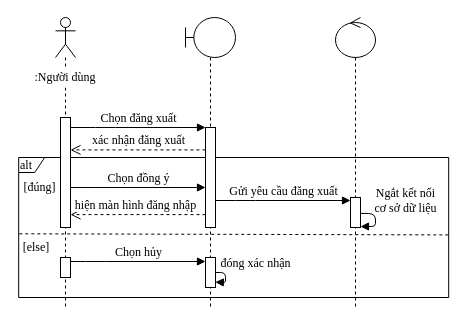
This 467x325 diagram has some shape labels left out. The shapes that lost their labels are listed below. From the top down, each one's centre as x and y in pixels, then its label:
At (210,162): ":Màn hình tài khoản".
At (355,162): ":Điều khiển đăng xuất".
